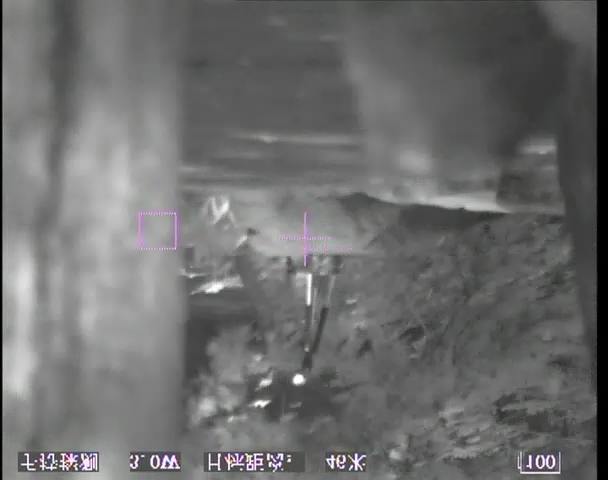my: (291, 373, 306, 387)
